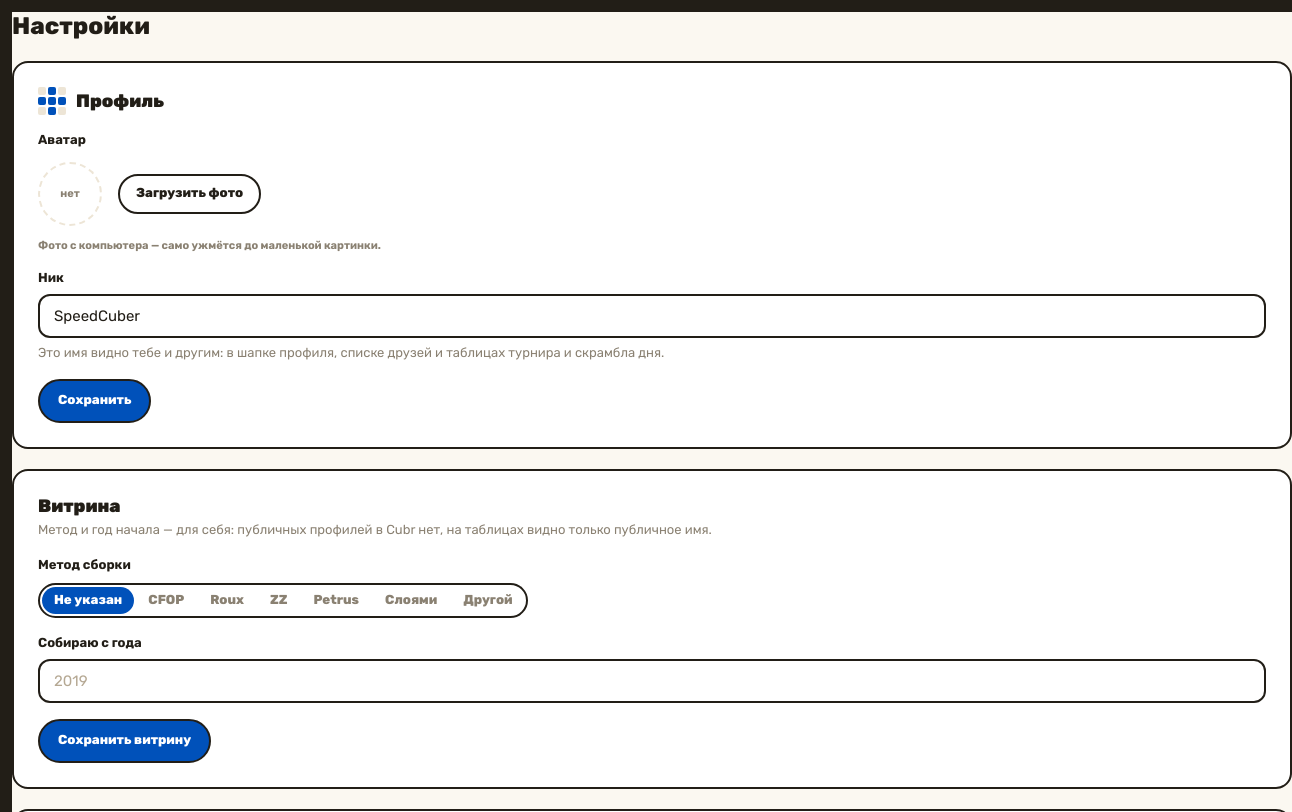
Scenario: SettingsPage — handle + avatar › displays 'Сохранено' message after successful save
Replace the text in the field labelled "Ник" with "Updated": (652, 316) [38,294,1266,338]
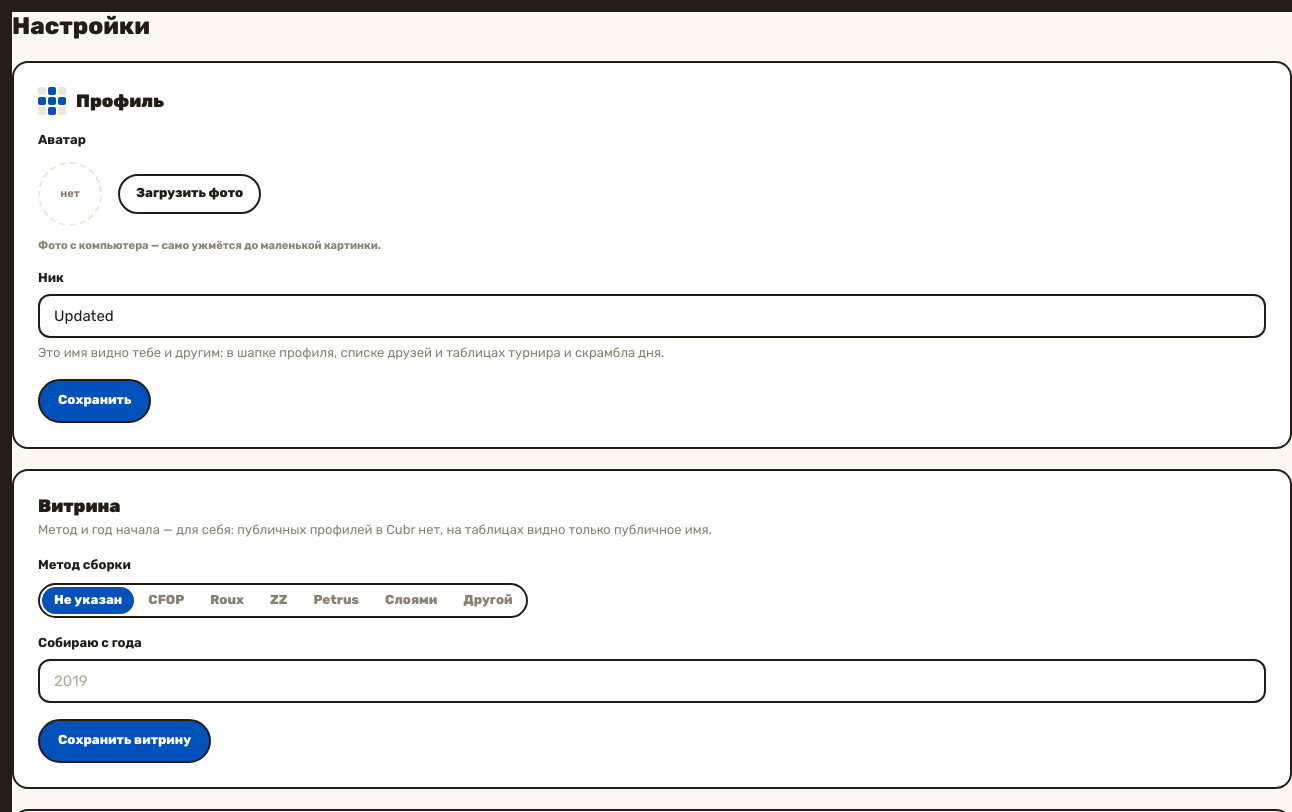
Click the button "Сохранить": (95, 401) [38,379,152,423]
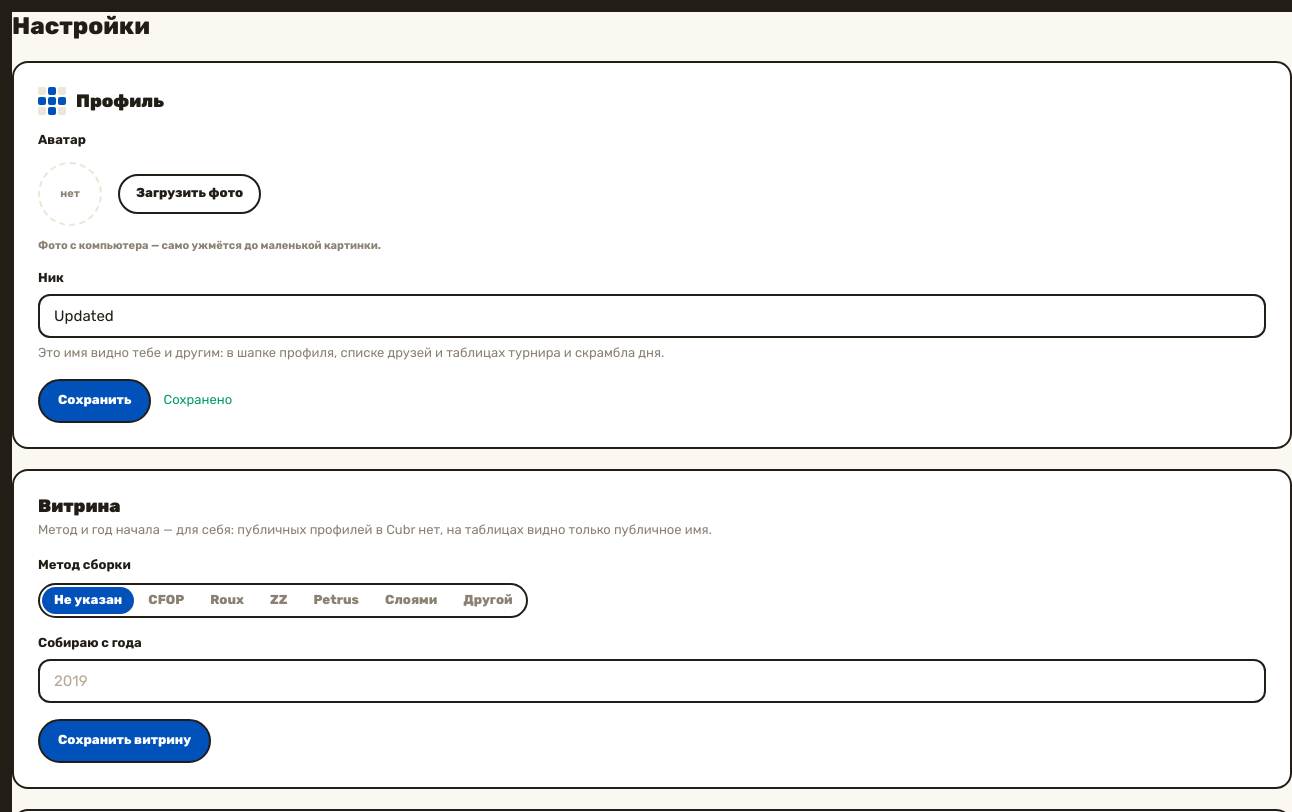
Expected: the text "Сохранено" is shown, [164,391,232,410]
